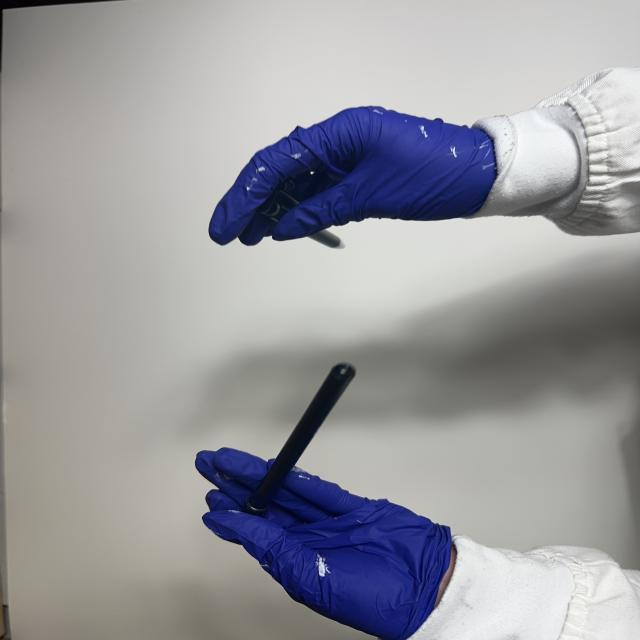gloves_contaminated: (196, 449, 452, 640), (210, 107, 496, 245)
